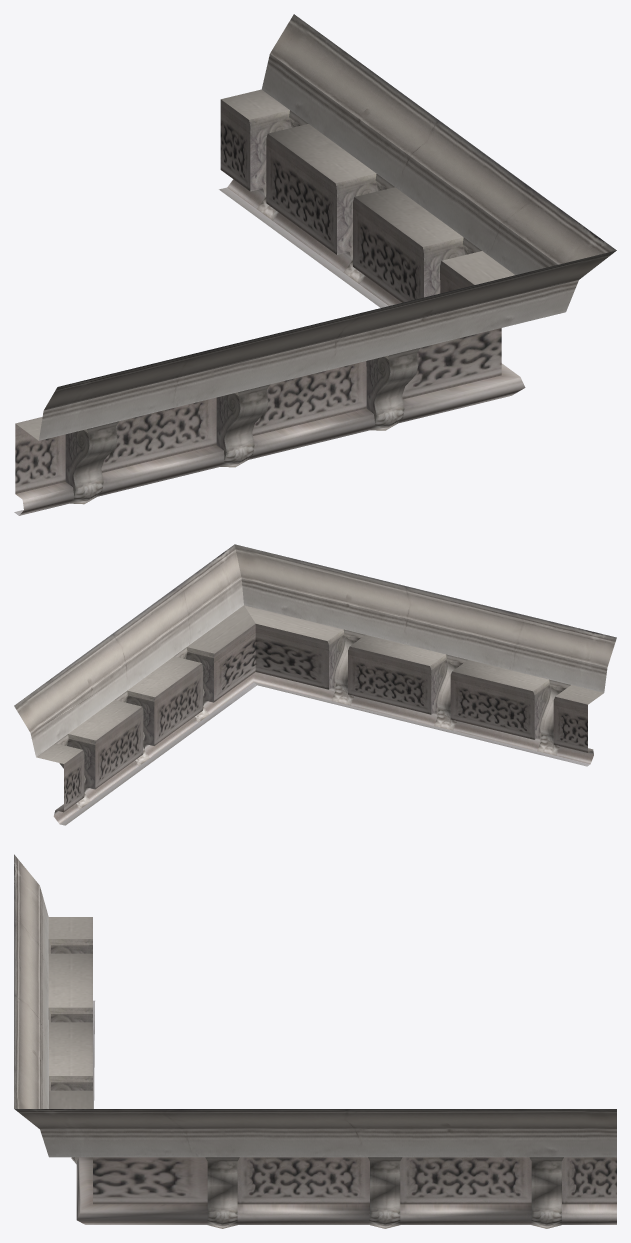
The model's file is WallRooflineCorner1C.fbx.
3 renders of one model, top to bottom at view 1: azimuth 30°, elevation 25°; view 2: azimuth 150°, elevation 25°; view 3: azimuth 270°, elevation 25°, orthographic. The views are drawn at different scales.
Visible parts, largest first — view 1: WallRooflineCorner1C; view 2: WallRooflineCorner1C; view 3: WallRooflineCorner1C.
Boxes of the visible parts, box(x1,y1,x2,y2) form: WallRooflineCorner1C: box(14, 14, 616, 515); WallRooflineCorner1C: box(14, 544, 616, 825); WallRooflineCorner1C: box(14, 854, 616, 1228).
Size of the model in its own units: 260 by 71.18 by 260.
